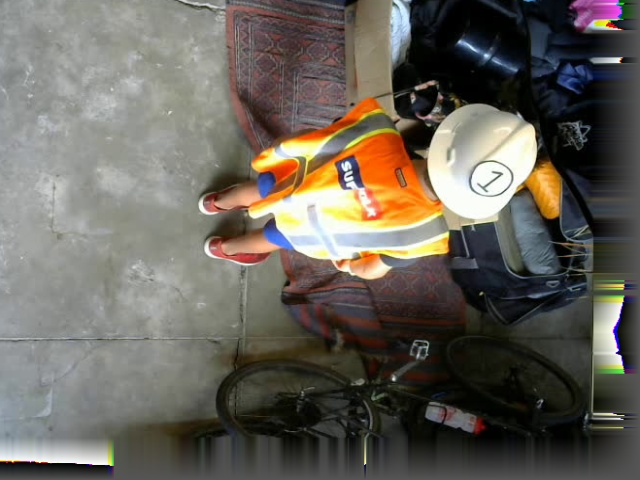one: (470, 160, 512, 194)
